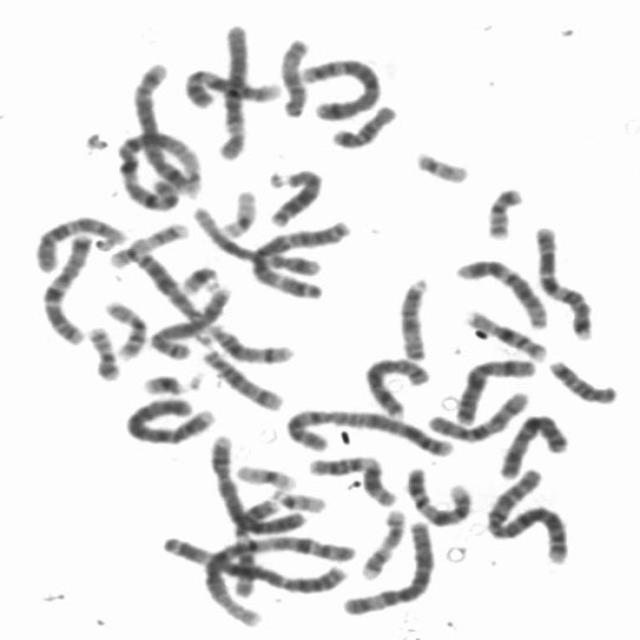A1: (192, 528, 355, 624), (110, 125, 206, 213)
A2: (277, 402, 457, 459), (481, 466, 573, 566)
A3: (154, 528, 355, 596), (244, 215, 352, 301)
B4: (203, 429, 309, 536), (120, 391, 220, 447)
B5: (126, 56, 196, 196), (294, 52, 384, 121)
C10: (423, 384, 533, 445), (30, 209, 128, 274)
C11: (227, 492, 280, 601), (303, 449, 399, 508)
C12: (186, 201, 324, 279), (449, 253, 550, 331)
C6: (337, 515, 439, 617), (211, 17, 251, 162)
C7: (529, 220, 598, 340), (36, 228, 96, 346)
C8: (144, 281, 232, 362), (358, 352, 434, 419)
C9: (179, 61, 285, 111), (401, 461, 475, 529)
D13: (130, 244, 219, 346), (264, 163, 326, 229)
D14: (197, 344, 285, 412), (202, 317, 297, 366)
D15: (392, 271, 432, 363), (274, 32, 314, 119)
E16: (458, 304, 550, 362), (99, 294, 151, 361)
E17: (105, 216, 192, 270), (356, 504, 408, 581)
E18: (543, 354, 620, 406), (326, 100, 399, 150)
F19: (214, 183, 260, 241), (231, 458, 298, 492)
F20: (481, 181, 528, 242), (82, 320, 124, 382)
G21: (138, 367, 201, 396), (175, 260, 222, 295)
G22: (409, 145, 473, 186), (265, 483, 330, 514)
X: (450, 354, 539, 425), (494, 408, 573, 482)
